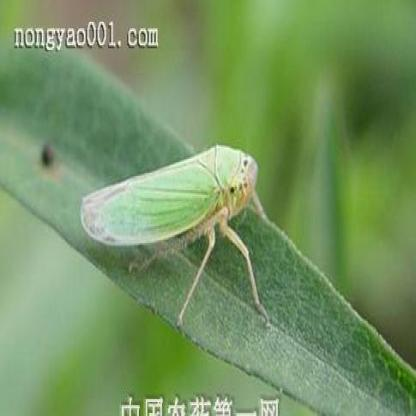Green-Leafhopper: (85, 139, 274, 331)
